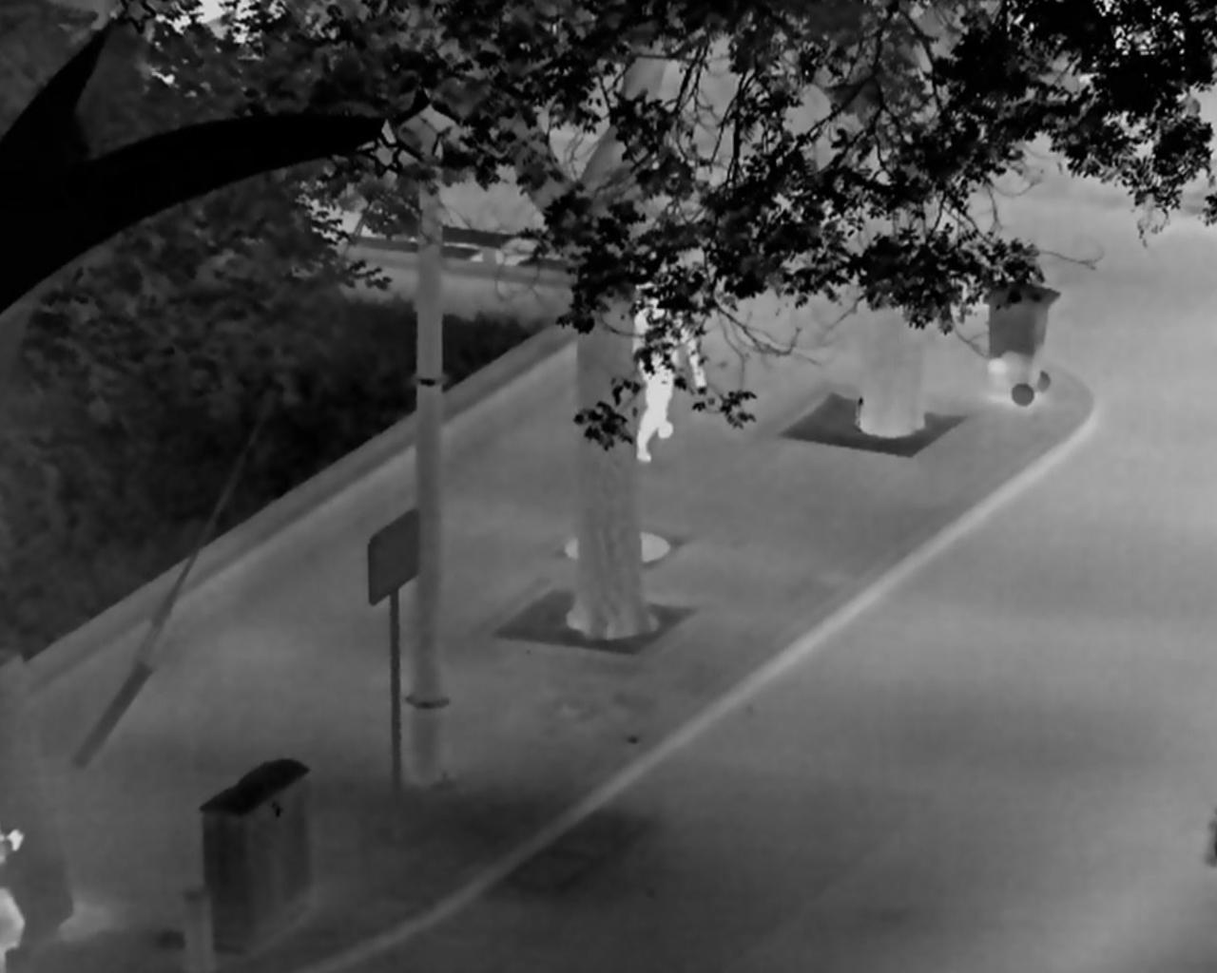person: (633, 273, 707, 462)
